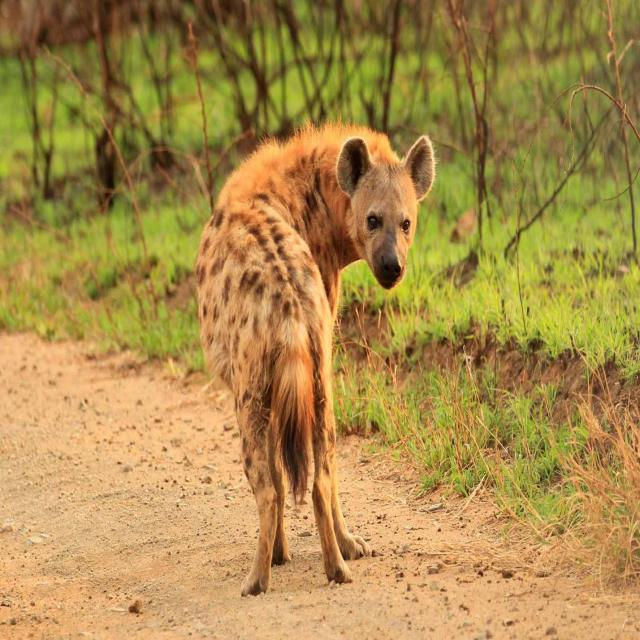Carnivorous: (193, 124, 439, 599)
